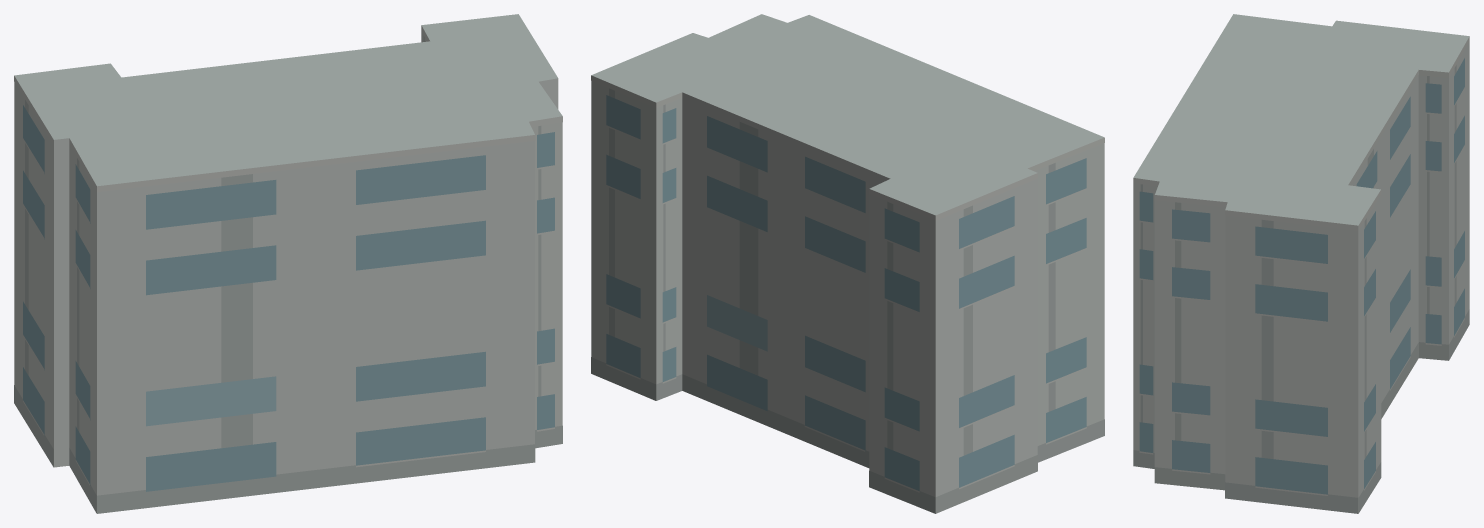
File: survey-upis-32758496.glb
The picture shows the model from 3 angles, left to right: view 1: azimuth 30°, elevation 25°; view 2: azimuth 150°, elevation 25°; view 3: azimuth 270°, elevation 25°; orthographic projection. The views are drawn at different scales.
Parts seen in each view (by area): view 1: survey-upis-32758496.tmp; view 2: survey-upis-32758496.tmp; view 3: survey-upis-32758496.tmp.
Boxes of the visible parts, x1,y1,x2,y2 form: survey-upis-32758496.tmp: [14, 14, 562, 513]; survey-upis-32758496.tmp: [591, 14, 1104, 513]; survey-upis-32758496.tmp: [1133, 14, 1469, 513].
Size of the model in its own units: 20.79 by 13.2 by 13.97.
